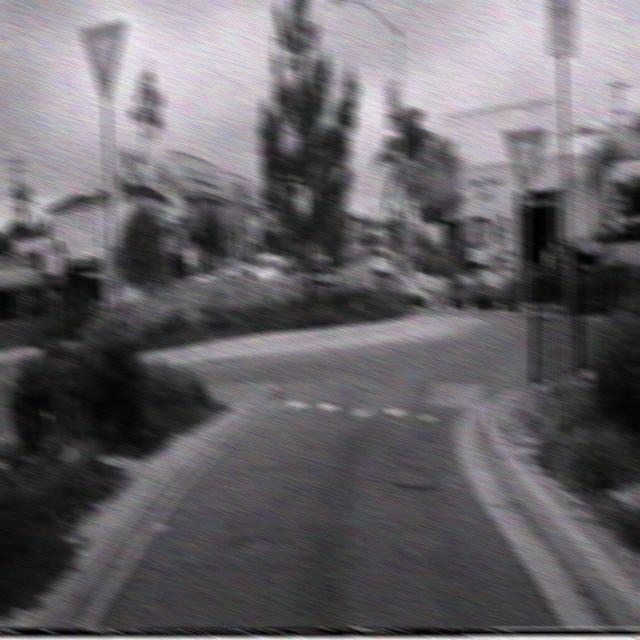yield: (78, 16, 128, 107), (501, 125, 550, 206)
